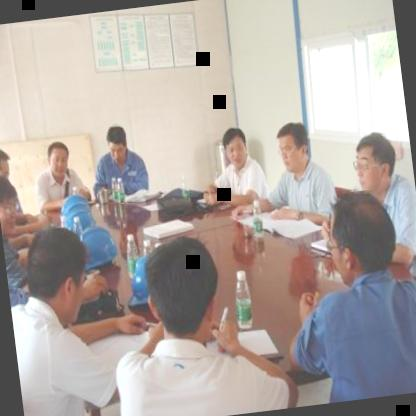head: (138, 224, 230, 350), (320, 185, 405, 292), (18, 220, 94, 328), (347, 126, 402, 202), (272, 114, 314, 178), (218, 124, 252, 178), (40, 136, 78, 183), (0, 172, 23, 235), (102, 120, 134, 165), (0, 143, 18, 191)
